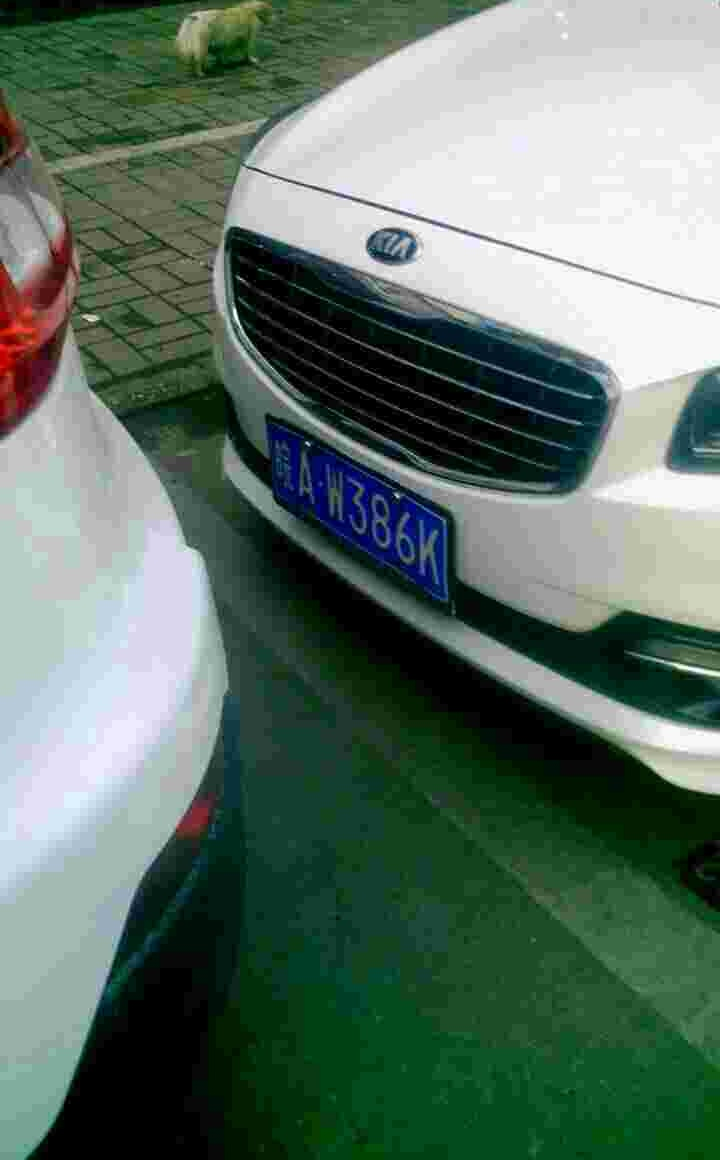license_plate: (268, 419, 458, 607)
